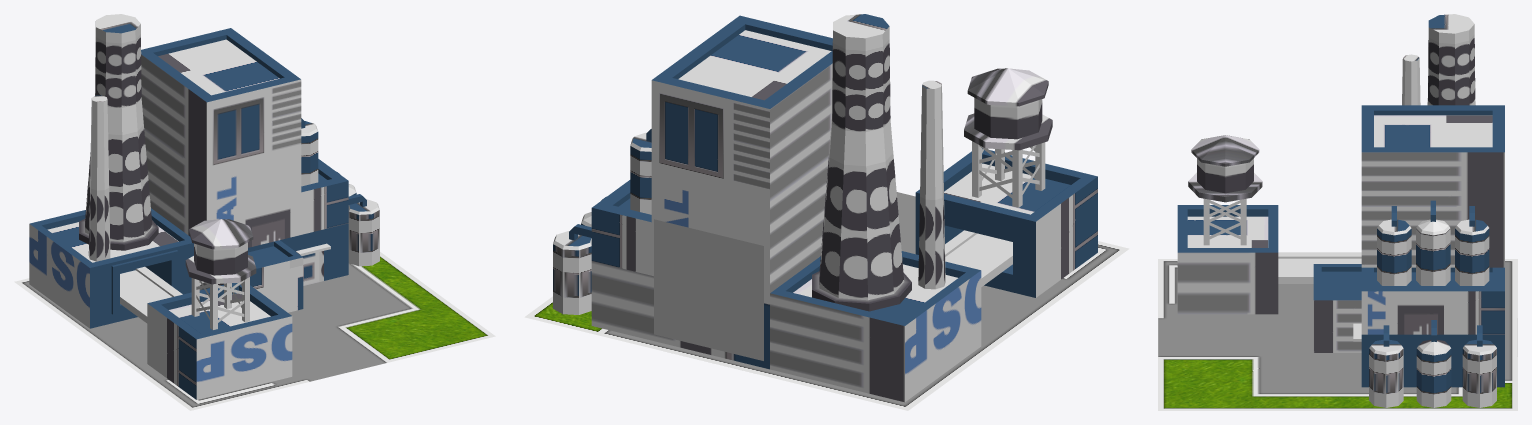
File: Smelter_Plant_lvl_4.fbx
The picture shows the model from 3 angles, left to right: view 1: azimuth 30°, elevation 25°; view 2: azimuth 150°, elevation 25°; view 3: azimuth 270°, elevation 25°; orthographic projection. The views are drawn at different scales.
Visible parts, largest first — view 1: Smelter_Plant_Lvl_4, Smelter_Plant_BG, Smelter_Plant_Lvl_4.001; view 2: Smelter_Plant_Lvl_4, Graffiti_001, Smelter_Plant_BG, Smelter_Plant_Lvl_4.001; view 3: Smelter_Plant_Lvl_4, Smelter_Plant_BG, Smelter_Plant_Lvl_4.001.
Part boxes in pixels (left/top/right/bottom): Smelter_Plant_Lvl_4: left=29, top=14, right=379, bottom=399; Smelter_Plant_BG: left=14, top=252, right=495, bottom=410; Smelter_Plant_Lvl_4.001: left=196, top=280, right=244, bottom=322; Smelter_Plant_Lvl_4: left=553, top=14, right=1097, bottom=402; Graffiti_001: left=654, top=219, right=763, bottom=360; Smelter_Plant_BG: left=524, top=192, right=1129, bottom=410; Smelter_Plant_Lvl_4.001: left=979, top=145, right=1039, bottom=198; Smelter_Plant_Lvl_4: left=1177, top=14, right=1504, bottom=407; Smelter_Plant_BG: left=1158, top=259, right=1517, bottom=410; Smelter_Plant_Lvl_4.001: left=1209, top=199, right=1240, bottom=239.
Bounding box in the file's own units: 2000 × 1657 × 2000.
